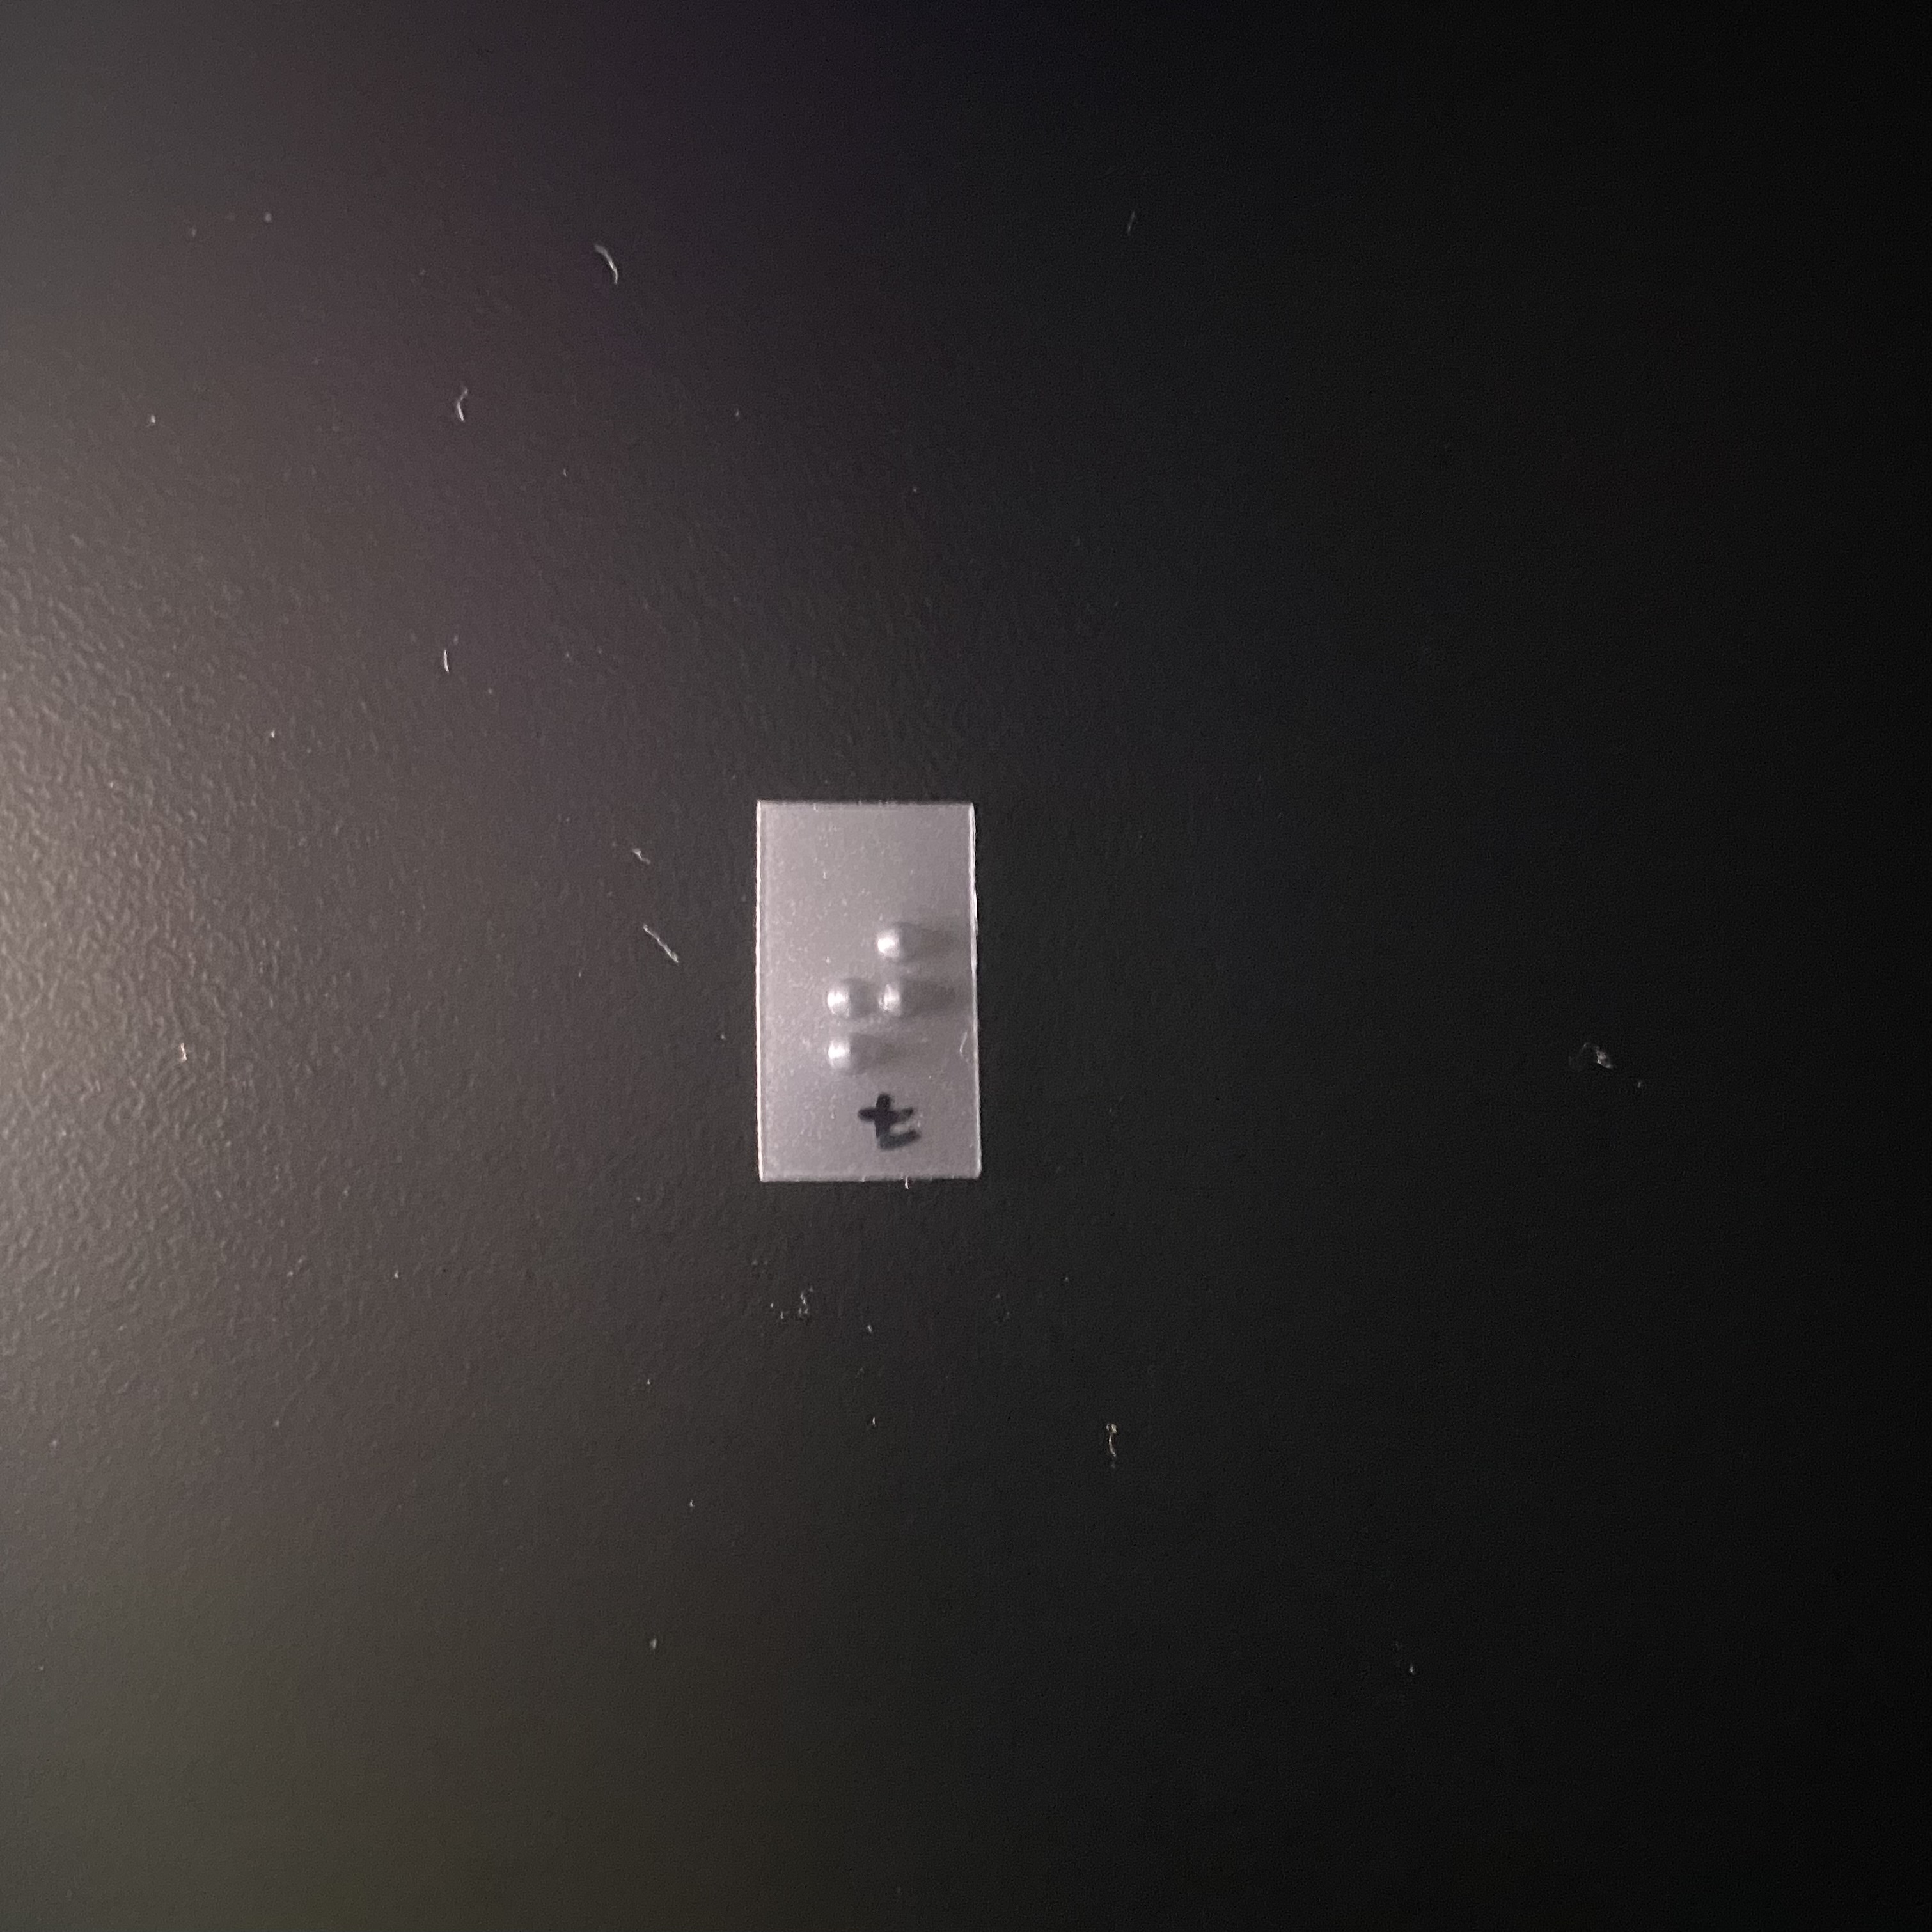t: (800, 905, 955, 1090)
